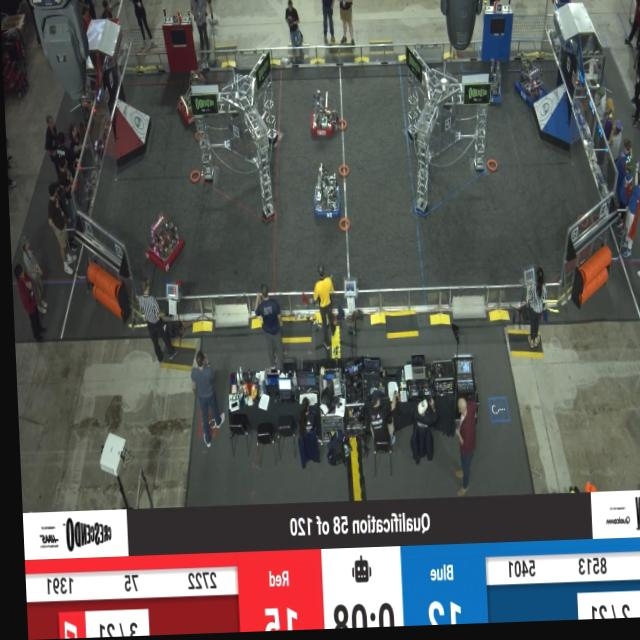Robot: (170, 64, 212, 135), (141, 211, 185, 275), (468, 56, 505, 121), (308, 160, 339, 224), (304, 87, 339, 143), (510, 60, 543, 112)
